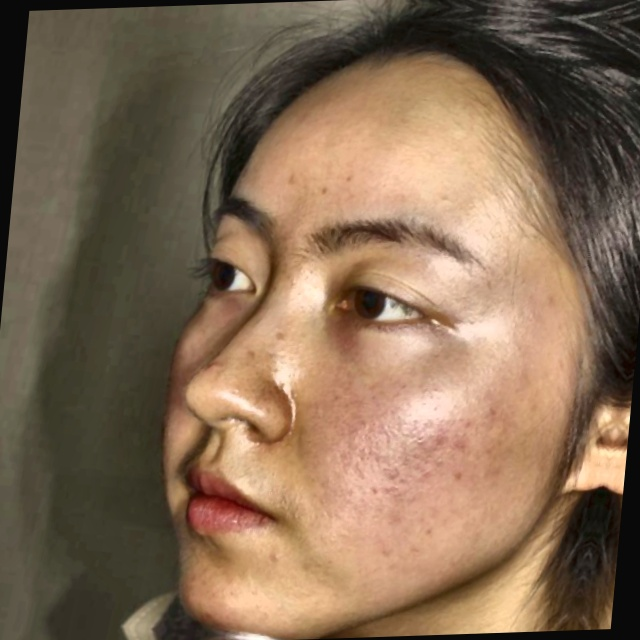comedone: (204, 353, 233, 377)
